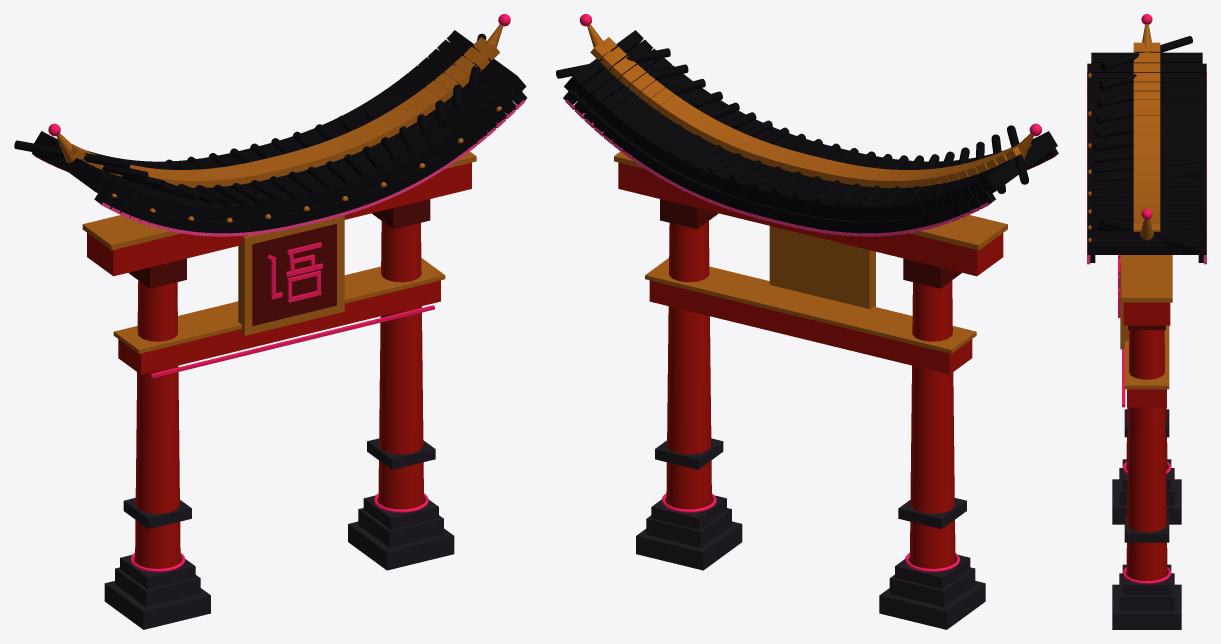
File: chinese-gate-yu.obj
3 views of the same model, side by side, from view 1: azimuth 30°, elevation 25°; view 2: azimuth 150°, elevation 25°; view 3: azimuth 270°, elevation 25° (orthographic). The views are drawn at different scales.
Parts seen in each view (by area): view 1: pillar_left, pillar_right, lintel_lower, plaque_panel, lintel_main, lintel_lower_cap, plaque_frame, plinth_lower_left, plinth_lower_right, lintel_main_cap, plinth_upper_left, plinth_upper_right (+14 smaller); view 2: pillar_left, pillar_right, lintel_lower_cap, lintel_lower, plaque_frame, lintel_main, plinth_lower_right, plinth_lower_left, lintel_main_cap, plinth_upper_left, plinth_upper_right, roof_slab_0 (+10 smaller); view 3: pillar_right, lintel_main_cap, plinth_lower_right, roof_slab_43, lintel_main, plinth_upper_right, lintel_lower_cap, plinth_lower_left, roof_slab_0, collar_low_right, lintel_lower, roof_slab_1 (+56 smaller).
Part boxes in pixels (box(x1,y1,x2,y2)): pillar_left: box(135, 280, 180, 568); pillar_right: box(378, 221, 423, 509); lintel_lower: box(118, 280, 440, 374); plaque_panel: box(252, 223, 336, 325); lintel_main: box(87, 162, 471, 276); lintel_lower_cap: box(113, 258, 445, 353); plaque_frame: box(238, 215, 344, 335); plinth_lower_left: box(104, 581, 210, 629); plinth_lower_right: box(348, 521, 454, 570); lintel_main_cap: box(82, 151, 476, 250); plinth_upper_left: box(115, 567, 200, 607); plinth_upper_right: box(358, 508, 443, 547); pillar_left: box(909, 280, 955, 568); pillar_right: box(666, 221, 711, 509); lintel_lower_cap: box(645, 258, 976, 353); lintel_lower: box(649, 280, 972, 374); plaque_frame: box(769, 226, 875, 308); lintel_main: box(618, 162, 1003, 276); plinth_lower_right: box(636, 521, 742, 570); plinth_lower_left: box(879, 581, 985, 629); lintel_main_cap: box(614, 151, 1007, 250); plinth_upper_left: box(889, 567, 975, 607); plinth_upper_right: box(646, 508, 731, 547); roof_slab_0: box(978, 131, 1057, 194); pillar_right: box(1126, 330, 1167, 580); lintel_main_cap: box(1121, 255, 1172, 302); plinth_lower_right: box(1112, 584, 1181, 629); roof_slab_43: box(1091, 231, 1202, 248); lintel_main: box(1123, 302, 1170, 325); plinth_upper_right: box(1119, 573, 1174, 610); lintel_lower_cap: box(1124, 325, 1169, 389); plinth_lower_left: box(1112, 479, 1181, 524); roof_slab_0: box(1091, 52, 1202, 62); collar_low_right: box(1122, 564, 1171, 595); lintel_lower: box(1127, 389, 1166, 407); roof_slab_1: box(1091, 63, 1202, 72).
Size of the model in its own units: 4.35 by 4.47 by 1.08.
